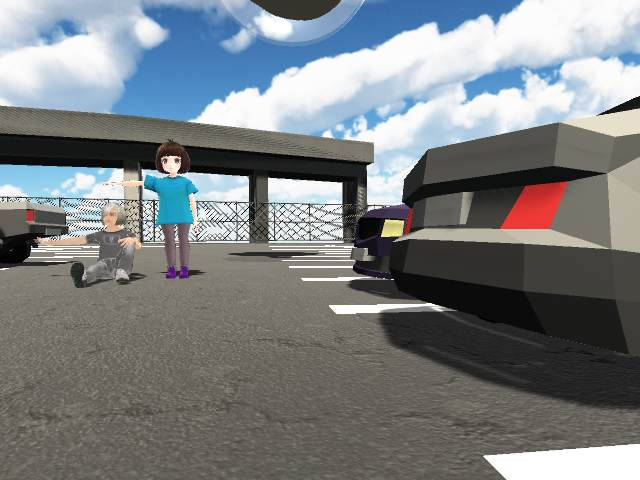doubleP_left: (33, 137, 202, 290)
